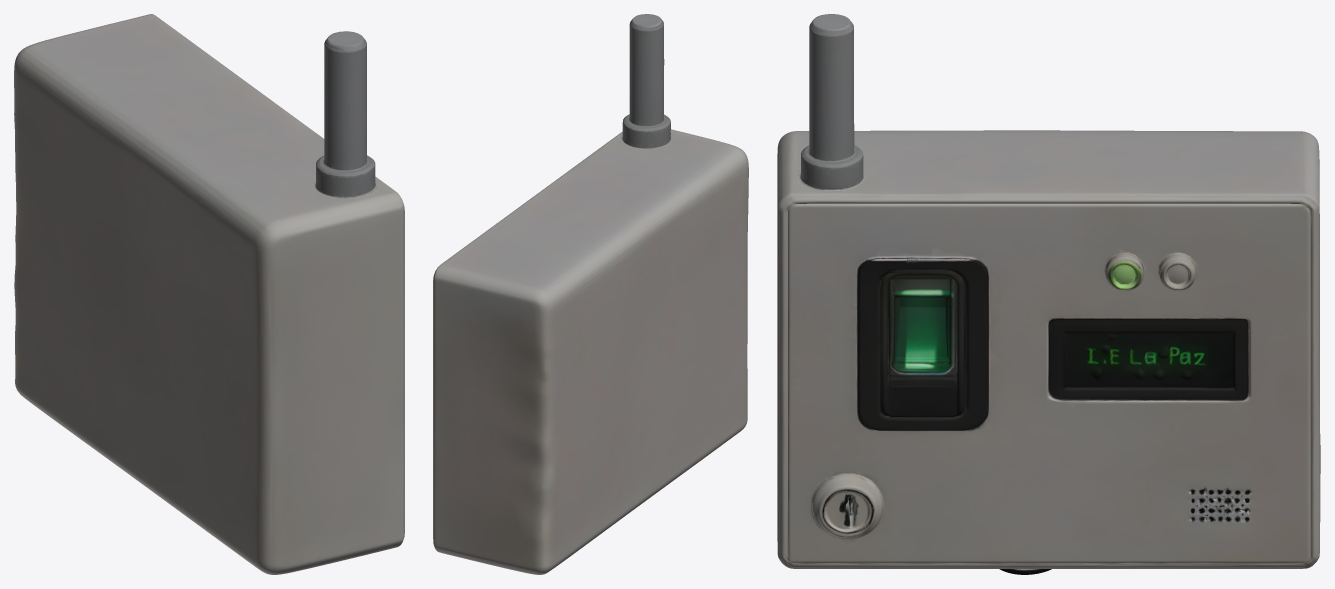
The model's file is nodonuevo.glb.
3 views of the same model, side by side, from view 1: azimuth 30°, elevation 25°; view 2: azimuth 150°, elevation 25°; view 3: azimuth 270°, elevation 25° (orthographic). The views are drawn at different scales.
Parts seen in each view (by area): view 1: tripo_node_5f4a8040-e72c-421a-8578-e2eebcd9c7b0; view 2: tripo_node_5f4a8040-e72c-421a-8578-e2eebcd9c7b0; view 3: tripo_node_5f4a8040-e72c-421a-8578-e2eebcd9c7b0.
Boxes of the visible parts, x1=… form: tripo_node_5f4a8040-e72c-421a-8578-e2eebcd9c7b0: x1=14, y1=14, x2=404, y2=574; tripo_node_5f4a8040-e72c-421a-8578-e2eebcd9c7b0: x1=433, y1=14, x2=748, y2=574; tripo_node_5f4a8040-e72c-421a-8578-e2eebcd9c7b0: x1=777, y1=14, x2=1320, y2=574.
Size of the model in its own units: 0.3129 by 1 by 0.887.
Materials: 1 (1 with a texture image).
